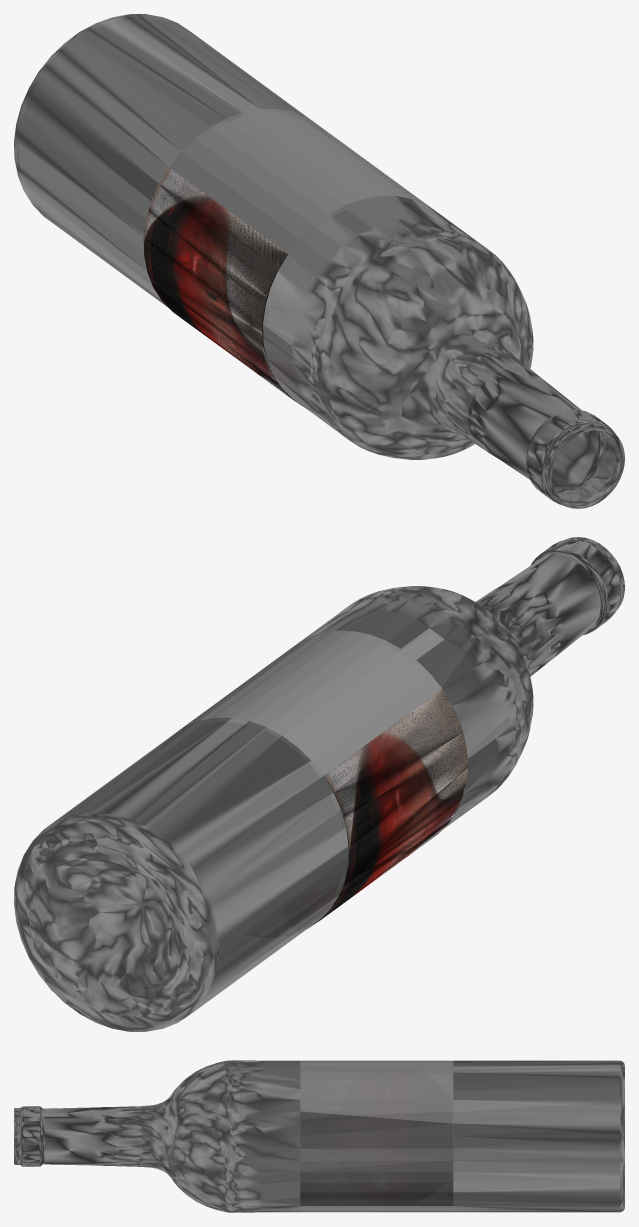
File: model_align.obj
The picture shows the model from 3 angles, top to bottom: view 1: azimuth 30°, elevation 25°; view 2: azimuth 150°, elevation 25°; view 3: azimuth 270°, elevation 25°; orthographic projection. The views are drawn at different scales.
Size of the model in its own units: 0.0479 by 0.0479 by 0.1917.
